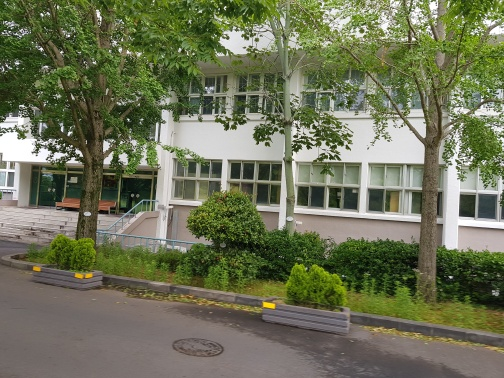Main Building of University: (23, 27, 504, 262)
